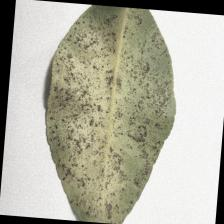canker: (63, 60, 139, 175)
